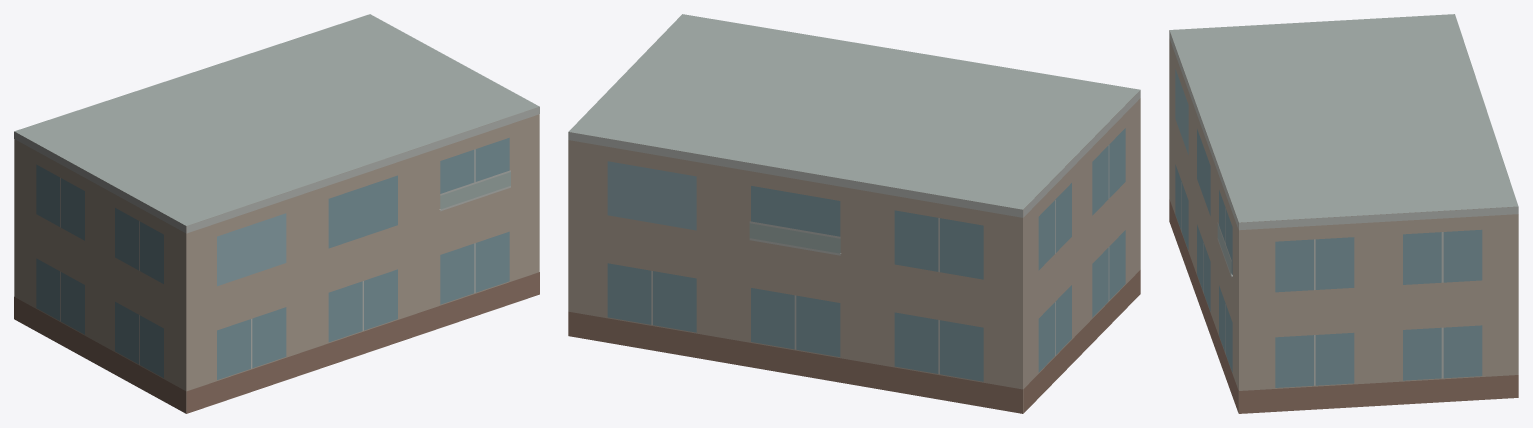
File: survey-upis-32699699.glb
3 views of the same model, side by side, from view 1: azimuth 30°, elevation 25°; view 2: azimuth 150°, elevation 25°; view 3: azimuth 270°, elevation 25° (orthographic). The views are drawn at different scales.
Visible parts, largest first — view 1: survey-upis-32699699.tmp; view 2: survey-upis-32699699.tmp; view 3: survey-upis-32699699.tmp.
Part boxes in pixels (x1,y1,x2,y2): survey-upis-32699699.tmp: (14,14,539,413); survey-upis-32699699.tmp: (568,14,1140,413); survey-upis-32699699.tmp: (1169,14,1518,413).
Bounding box in the file's own units: 14.27 × 6.1 × 10.1.
